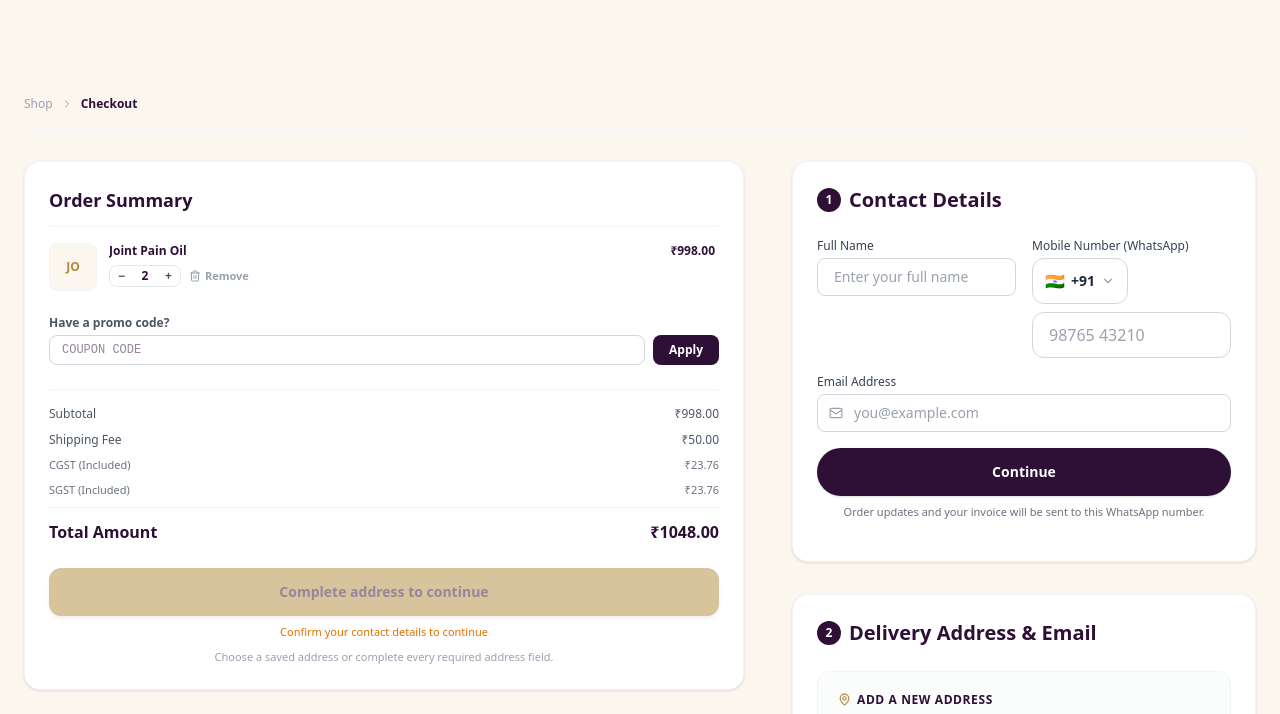
Scenario: checkout — contact step verifies the number with a WhatsApp OTP › shows the server message when OTP send fails with a response
expect the button "Continue" is shown: met, box [817,448,1231,496]
Type "Atharva Bhargava" into the field with placeholder "Enter your full name".
click(916, 277); type("Atharva Bhargava")  # box [817,258,1016,296]
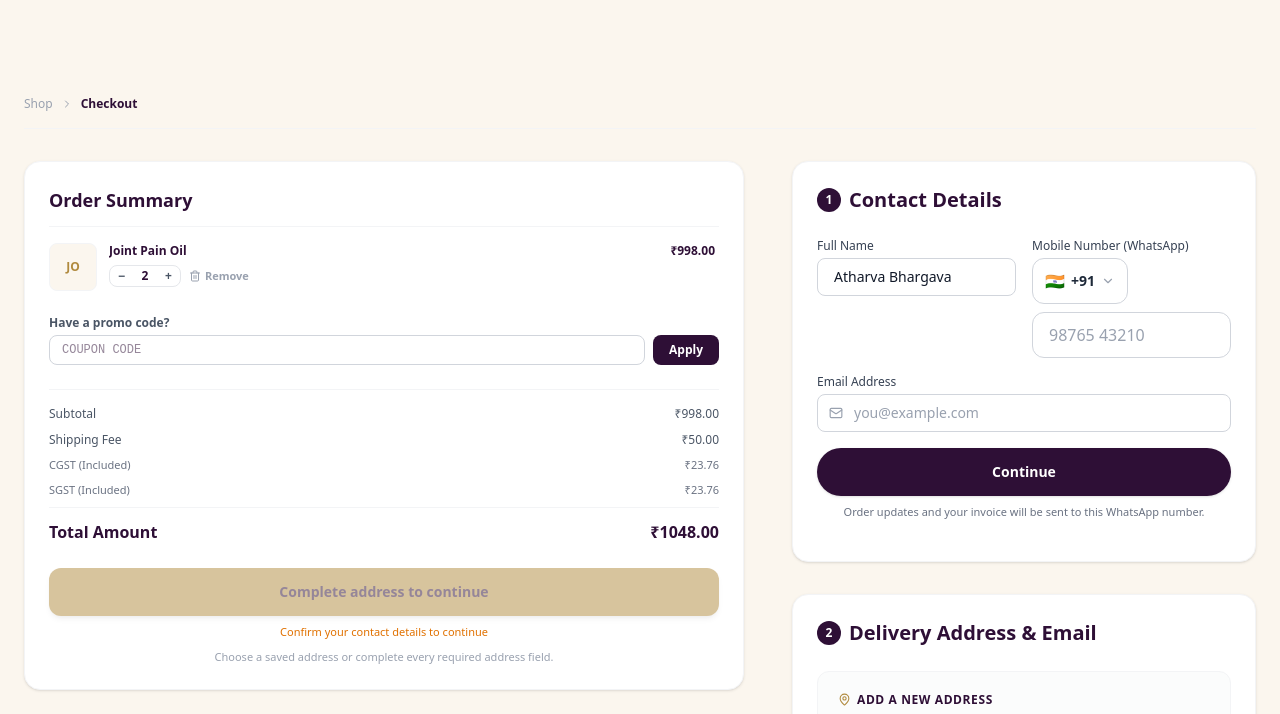
Type "9876543210" into the field with placeholder "98765 43210".
click(1132, 335); type("9876543210")  # box [1032,312,1231,358]
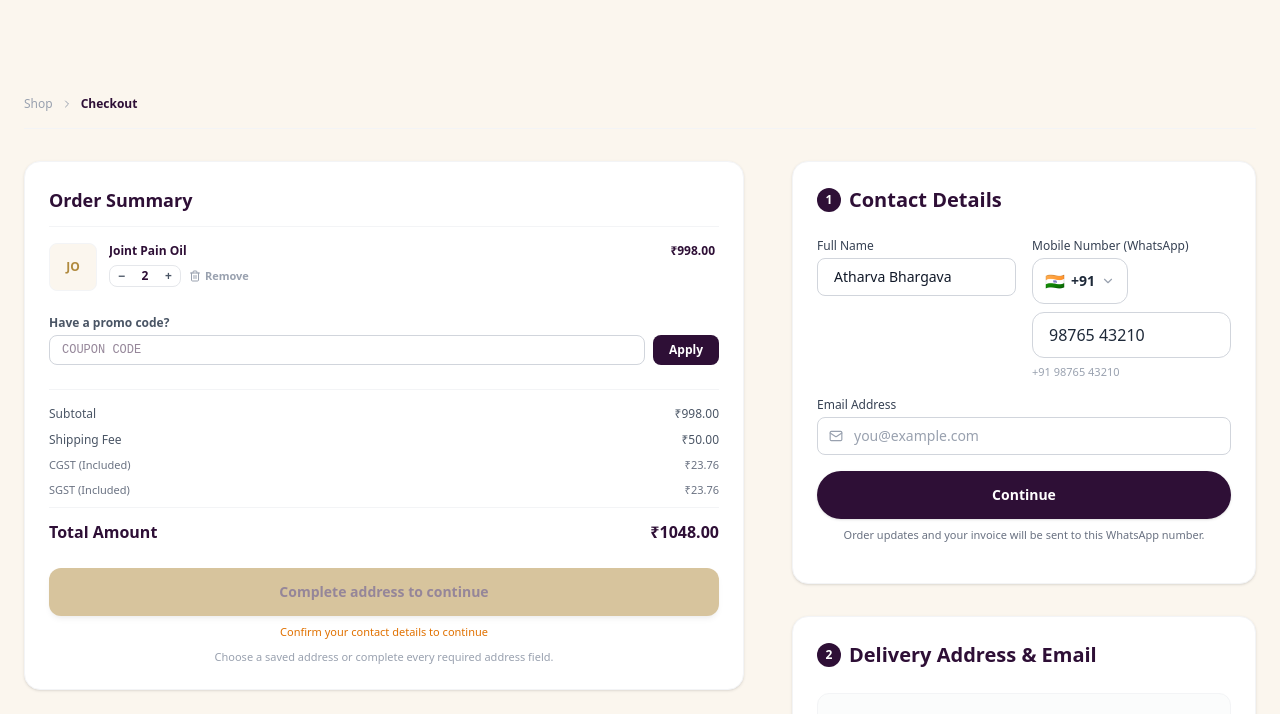
Type "atharva@example.com" into the field with id "checkout-contact-email".
click(1024, 436); type("atharva@example.com")  # box [817,416,1231,454]
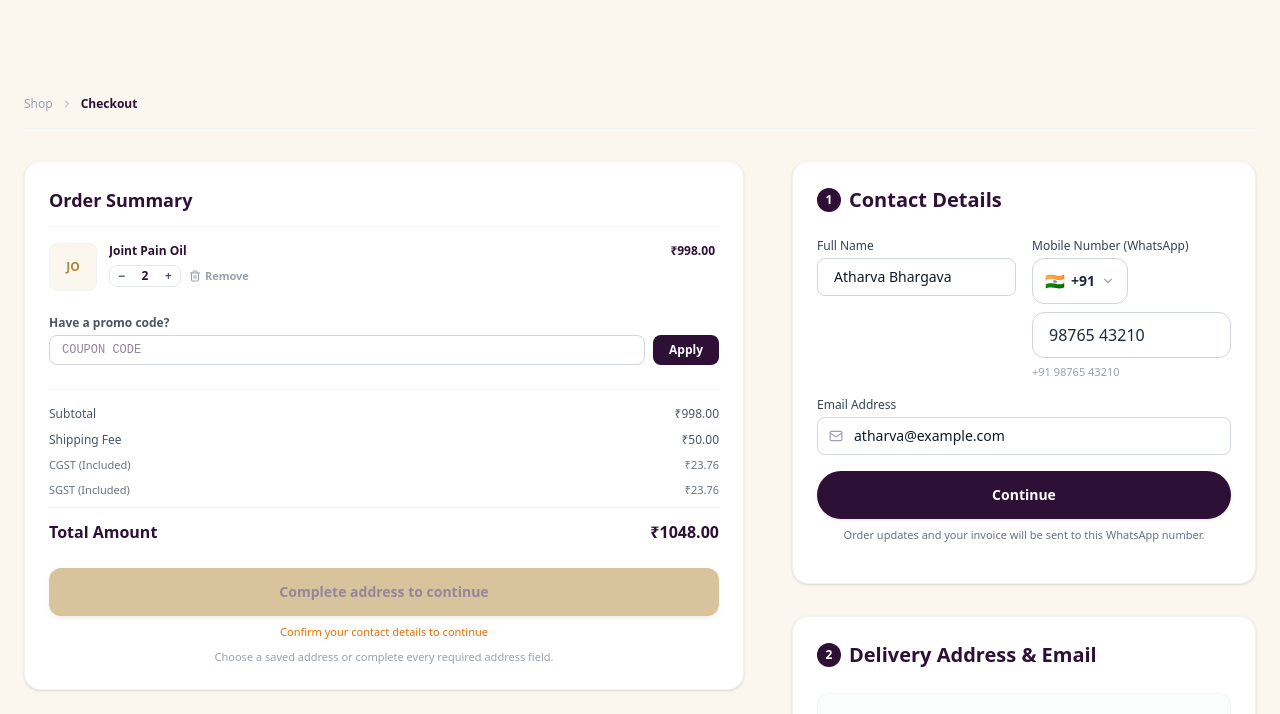
Click the button "Continue".
click(1024, 494)  # box [817,470,1231,518]
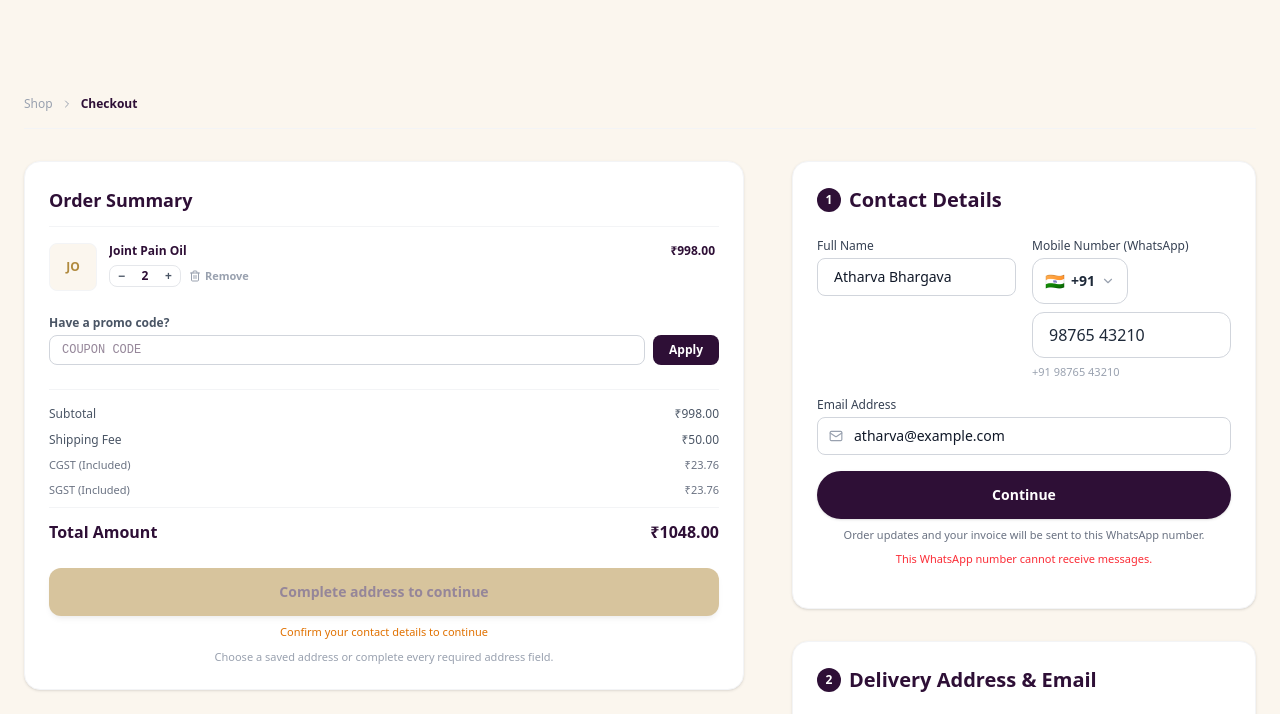
expect the text "This WhatsApp number cannot receive messages." is shown: met, box [896,551,1152,566]
